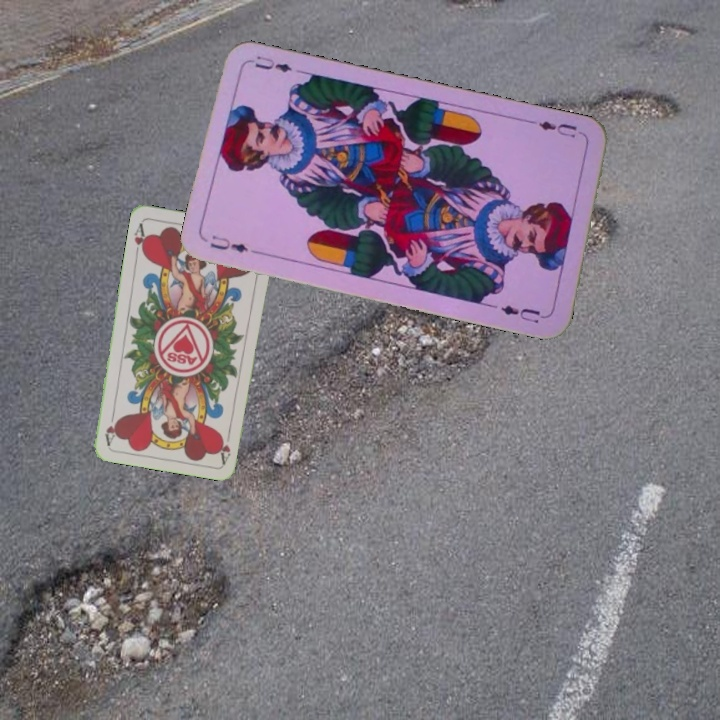EU: (206, 231, 251, 256), (534, 116, 580, 140)
HA: (130, 219, 150, 259), (216, 425, 233, 465)
